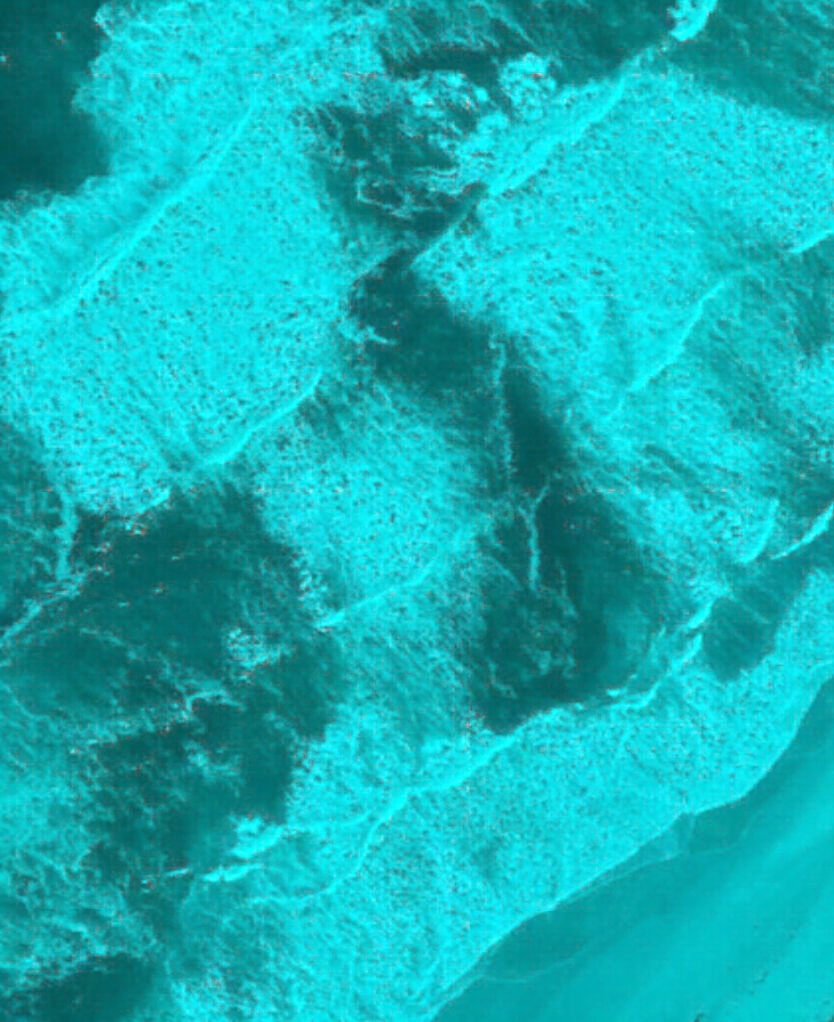rip_current: (287, 104, 690, 747)
